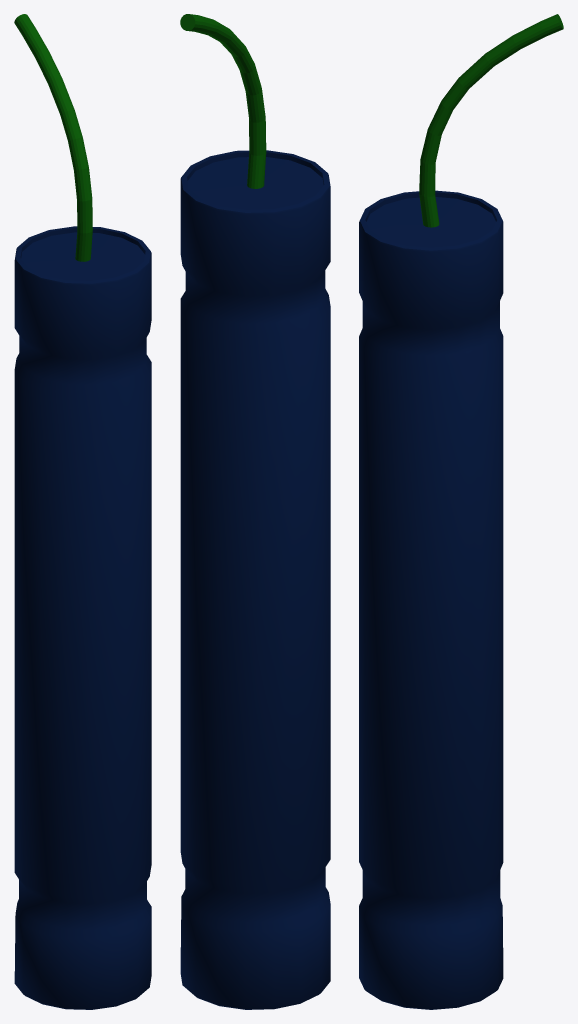
File: Dynamite.fbx
The picture shows the model from 3 angles, left to right: view 1: azimuth 30°, elevation 25°; view 2: azimuth 150°, elevation 25°; view 3: azimuth 270°, elevation 25°; orthographic projection. The views are drawn at different scales.
Parts seen in each view (by area): view 1: Dynamite; view 2: Dynamite; view 3: Dynamite.
Part boxes in pixels (x1,y1,x2,y2): Dynamite: (14,14,151,1009); Dynamite: (180,14,330,1009); Dynamite: (359,14,563,1009).
Size of the model in its own units: 2.51 by 18.53 by 3.56.
